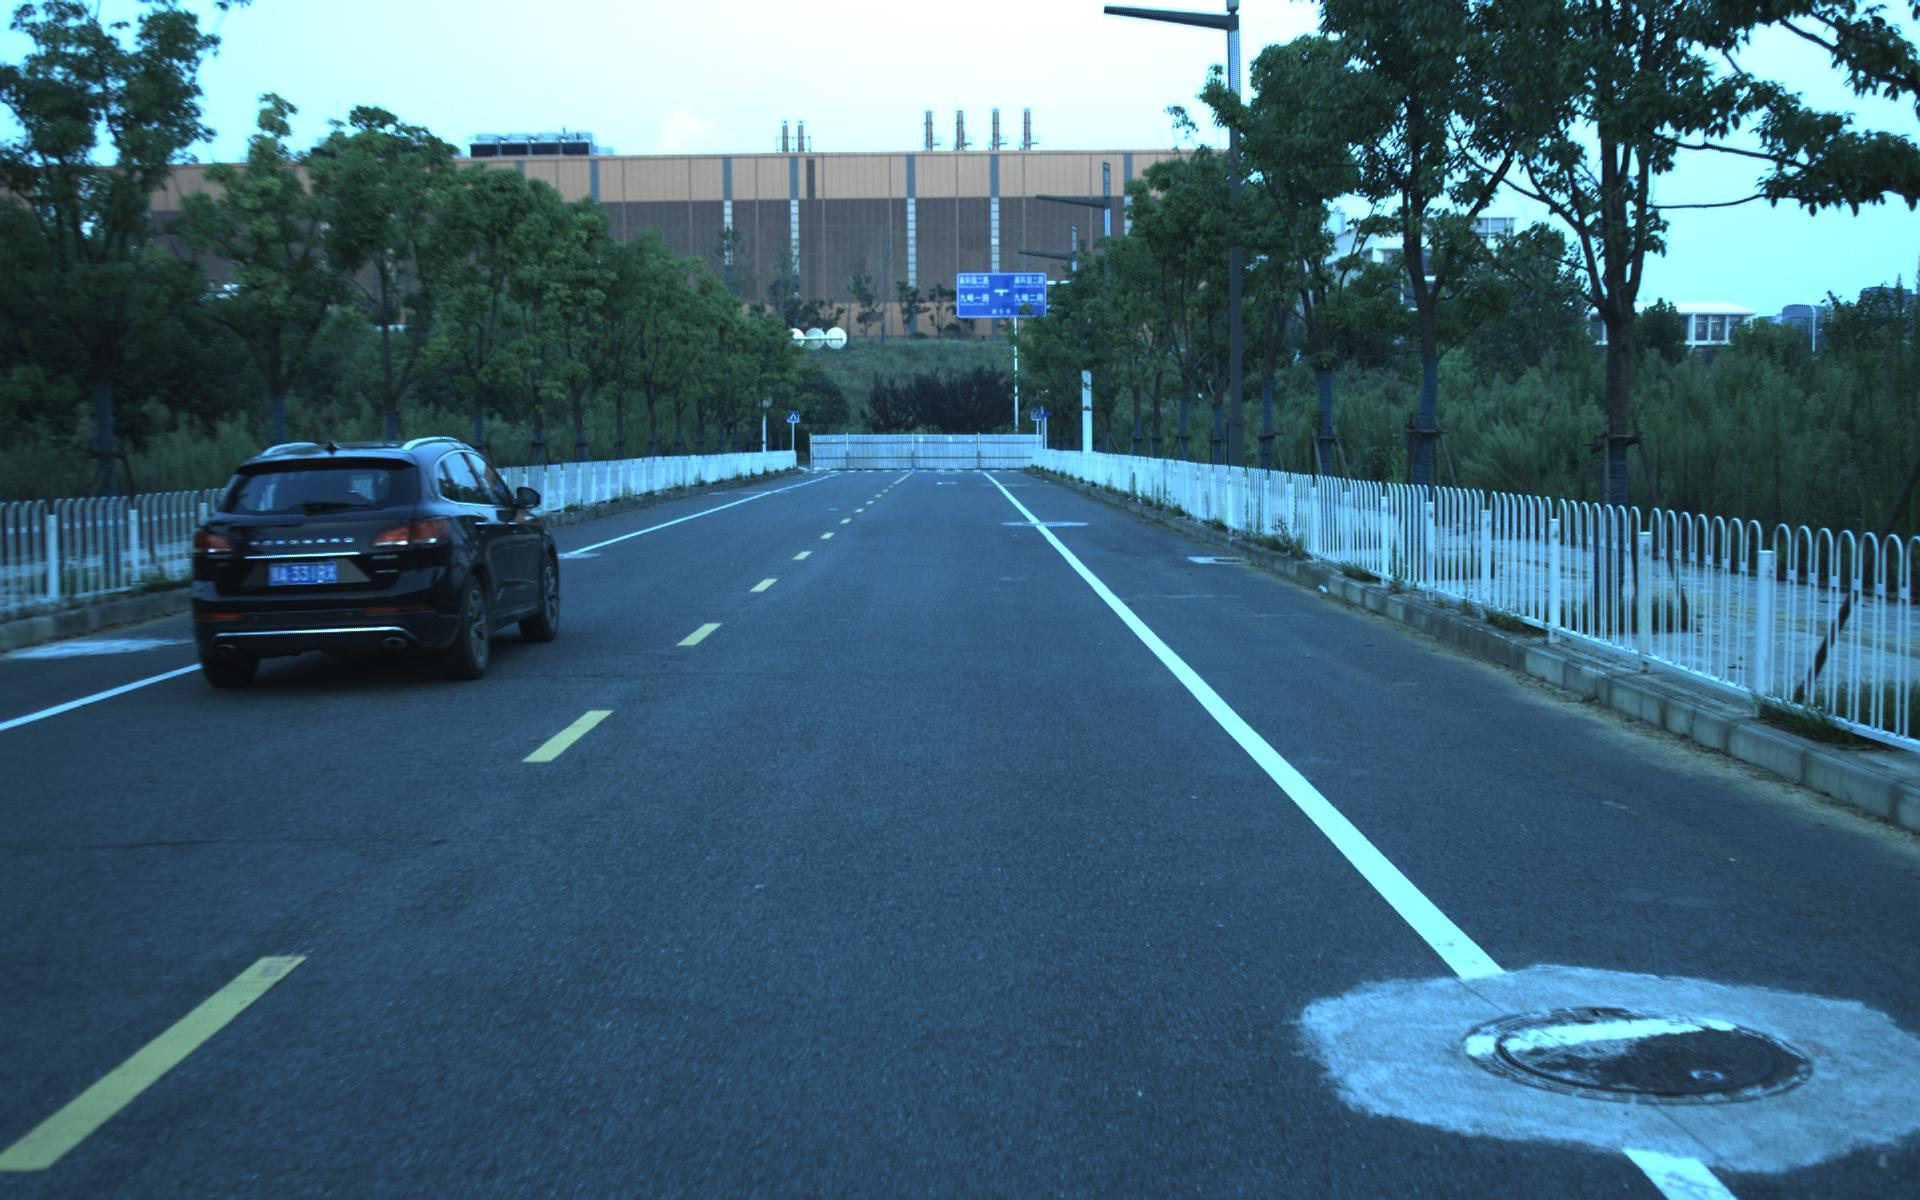Car: (170, 427, 565, 693)
